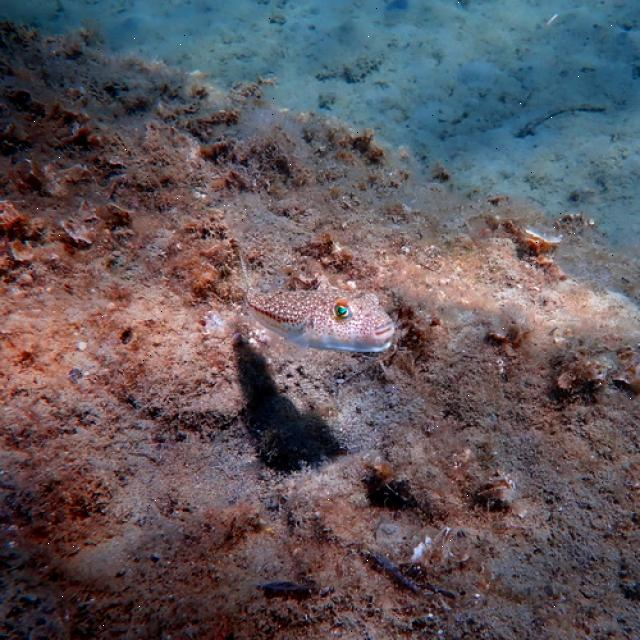Balik: (246, 291, 394, 351)
